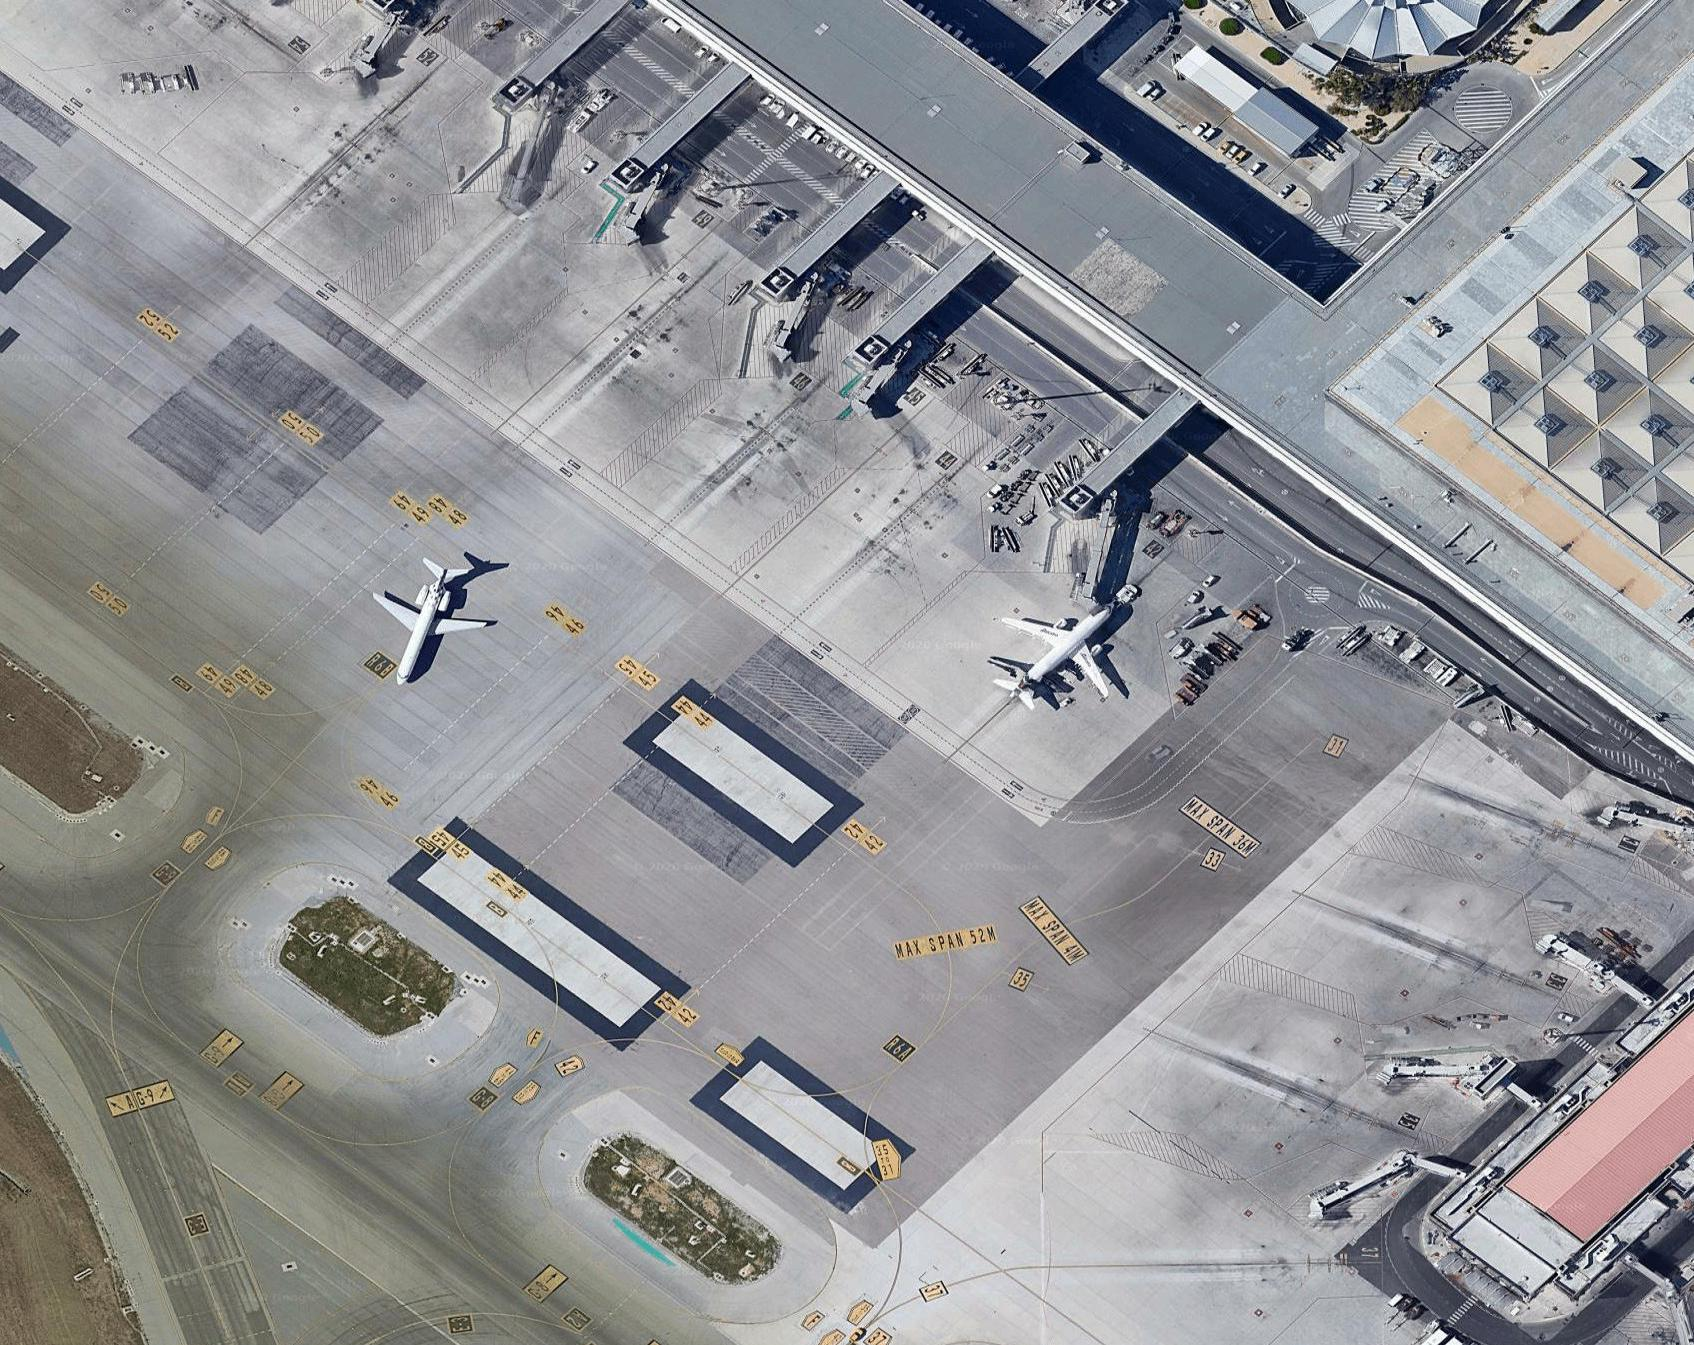plane: (962, 551, 1167, 756), (342, 536, 507, 708)
